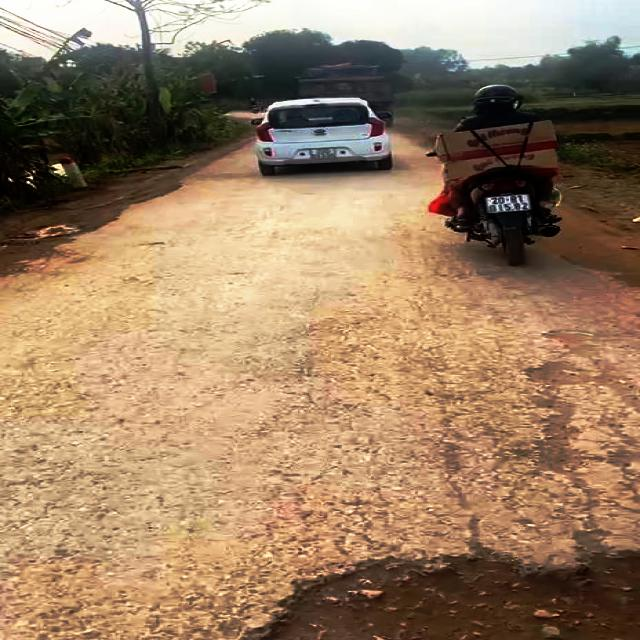pothole: (238, 540, 640, 639), (503, 351, 607, 479)
